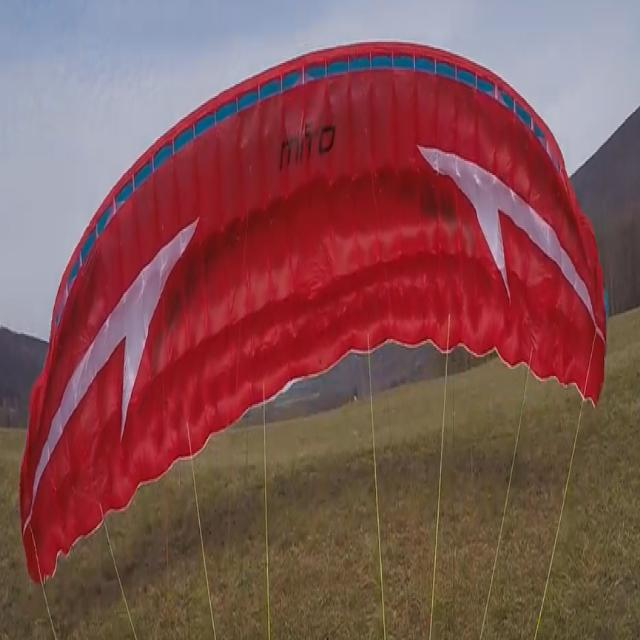paraglider: (17, 36, 608, 588)
